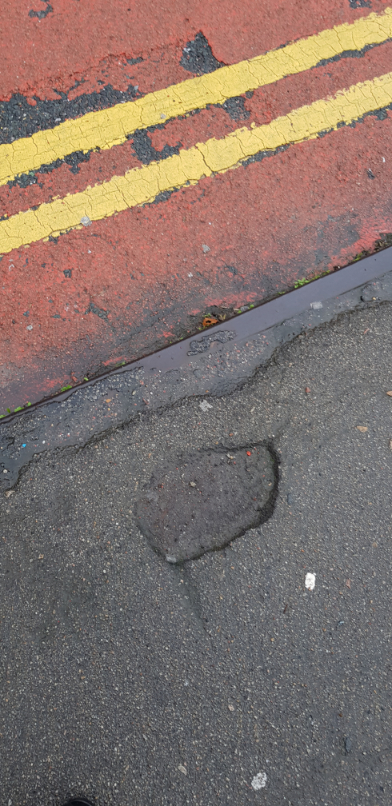pothole: (128, 433, 285, 570)
